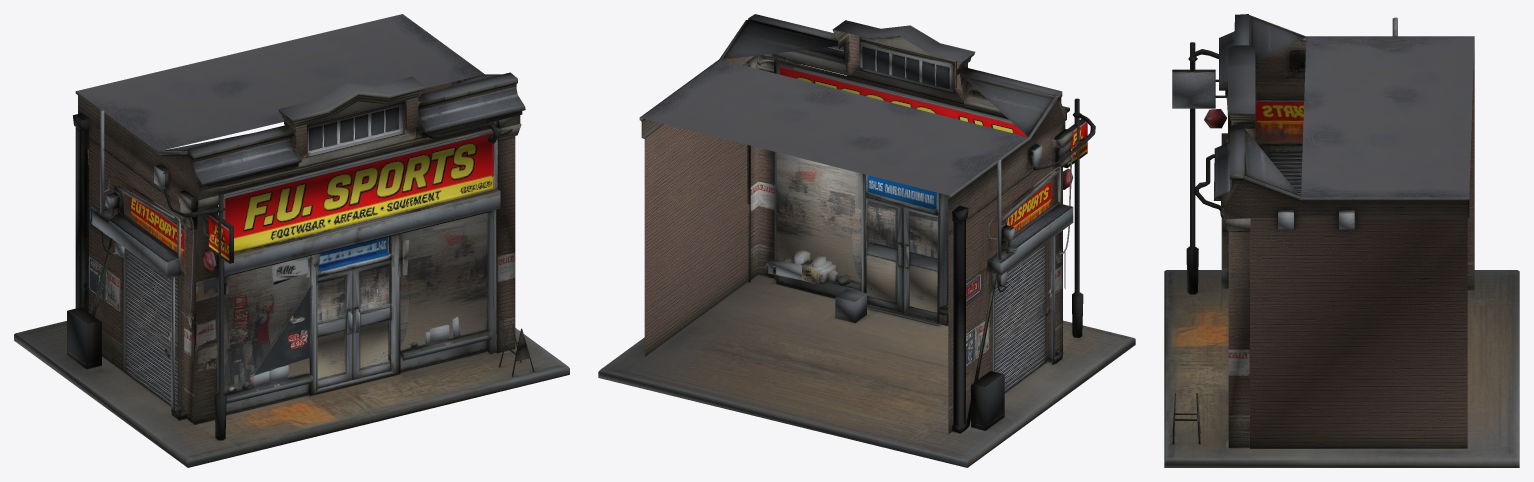
The model's file is fu+sports+shop+3d+model.glb.
3 renders of one model, left to right at view 1: azimuth 30°, elevation 25°; view 2: azimuth 150°, elevation 25°; view 3: azimuth 270°, elevation 25°, orthographic. The views are drawn at different scales.
Parts seen in each view (by area): view 1: tripo_node_b4a5116a-cb58-475b-9452-9ed5c2444f14; view 2: tripo_node_b4a5116a-cb58-475b-9452-9ed5c2444f14; view 3: tripo_node_b4a5116a-cb58-475b-9452-9ed5c2444f14.
Boxes of the visible parts, <box> form: tripo_node_b4a5116a-cb58-475b-9452-9ed5c2444f14: <box>14,14,569,467</box>; tripo_node_b4a5116a-cb58-475b-9452-9ed5c2444f14: <box>598,14,1135,467</box>; tripo_node_b4a5116a-cb58-475b-9452-9ed5c2444f14: <box>1164,14,1519,467</box>.
Size of the model in its own units: 0.998 by 0.7598 by 0.7871.
1 material, 1 textured.
